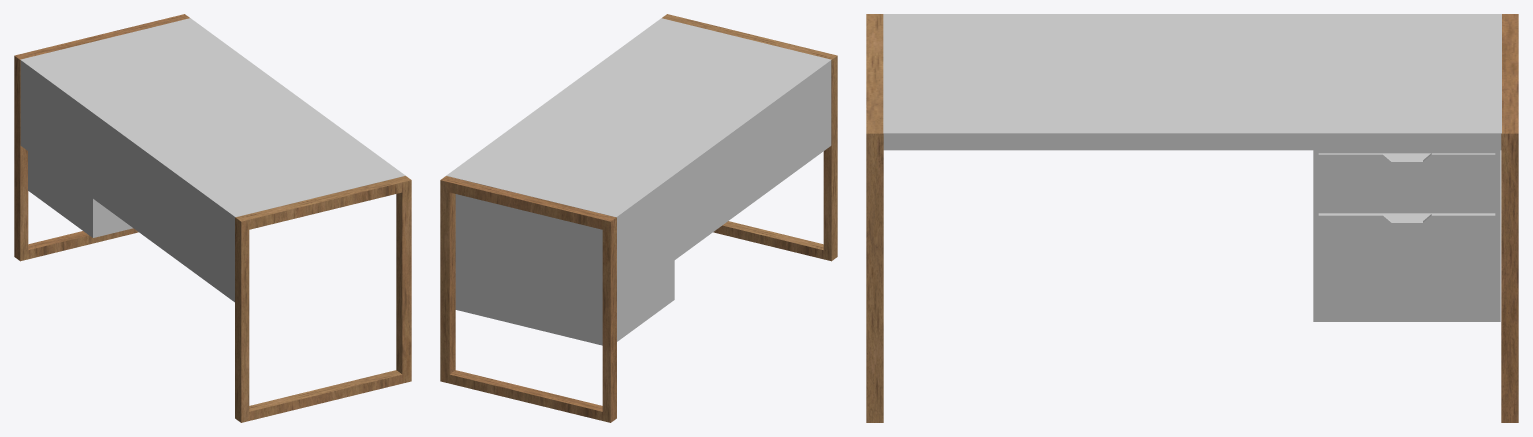
File: escritorio3.fbx
3 views of the same model, side by side, from view 1: azimuth 30°, elevation 25°; view 2: azimuth 150°, elevation 25°; view 3: azimuth 270°, elevation 25° (orthographic). The views are drawn at different scales.
Parts seen in each view (by area): view 1: Cube.010, Plane.002, Cube; view 2: Cube.010, Cube, Plane.002; view 3: Cube.010, Cube.011, Plane.002, Cube.012, Cube.
Boxes of the visible parts, x1,y1,x2,y2 form: Cube.010: [20, 18, 405, 302]; Plane.002: [14, 14, 411, 422]; Cube: [28, 151, 132, 237]; Cube.010: [446, 18, 831, 302]; Cube: [455, 194, 674, 345]; Plane.002: [440, 14, 837, 422]; Cube.010: [883, 14, 1501, 150]; Cube.011: [1318, 213, 1495, 318]; Plane.002: [866, 14, 1518, 422]; Cube.012: [1318, 153, 1495, 209]; Cube: [1313, 150, 1500, 321].
Size of the model in its own units: 177 by 200 by 409.
